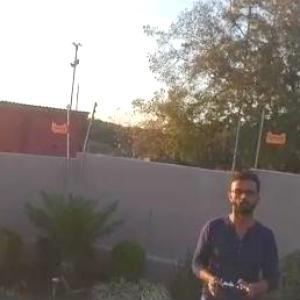follow: (182, 165, 280, 299)
